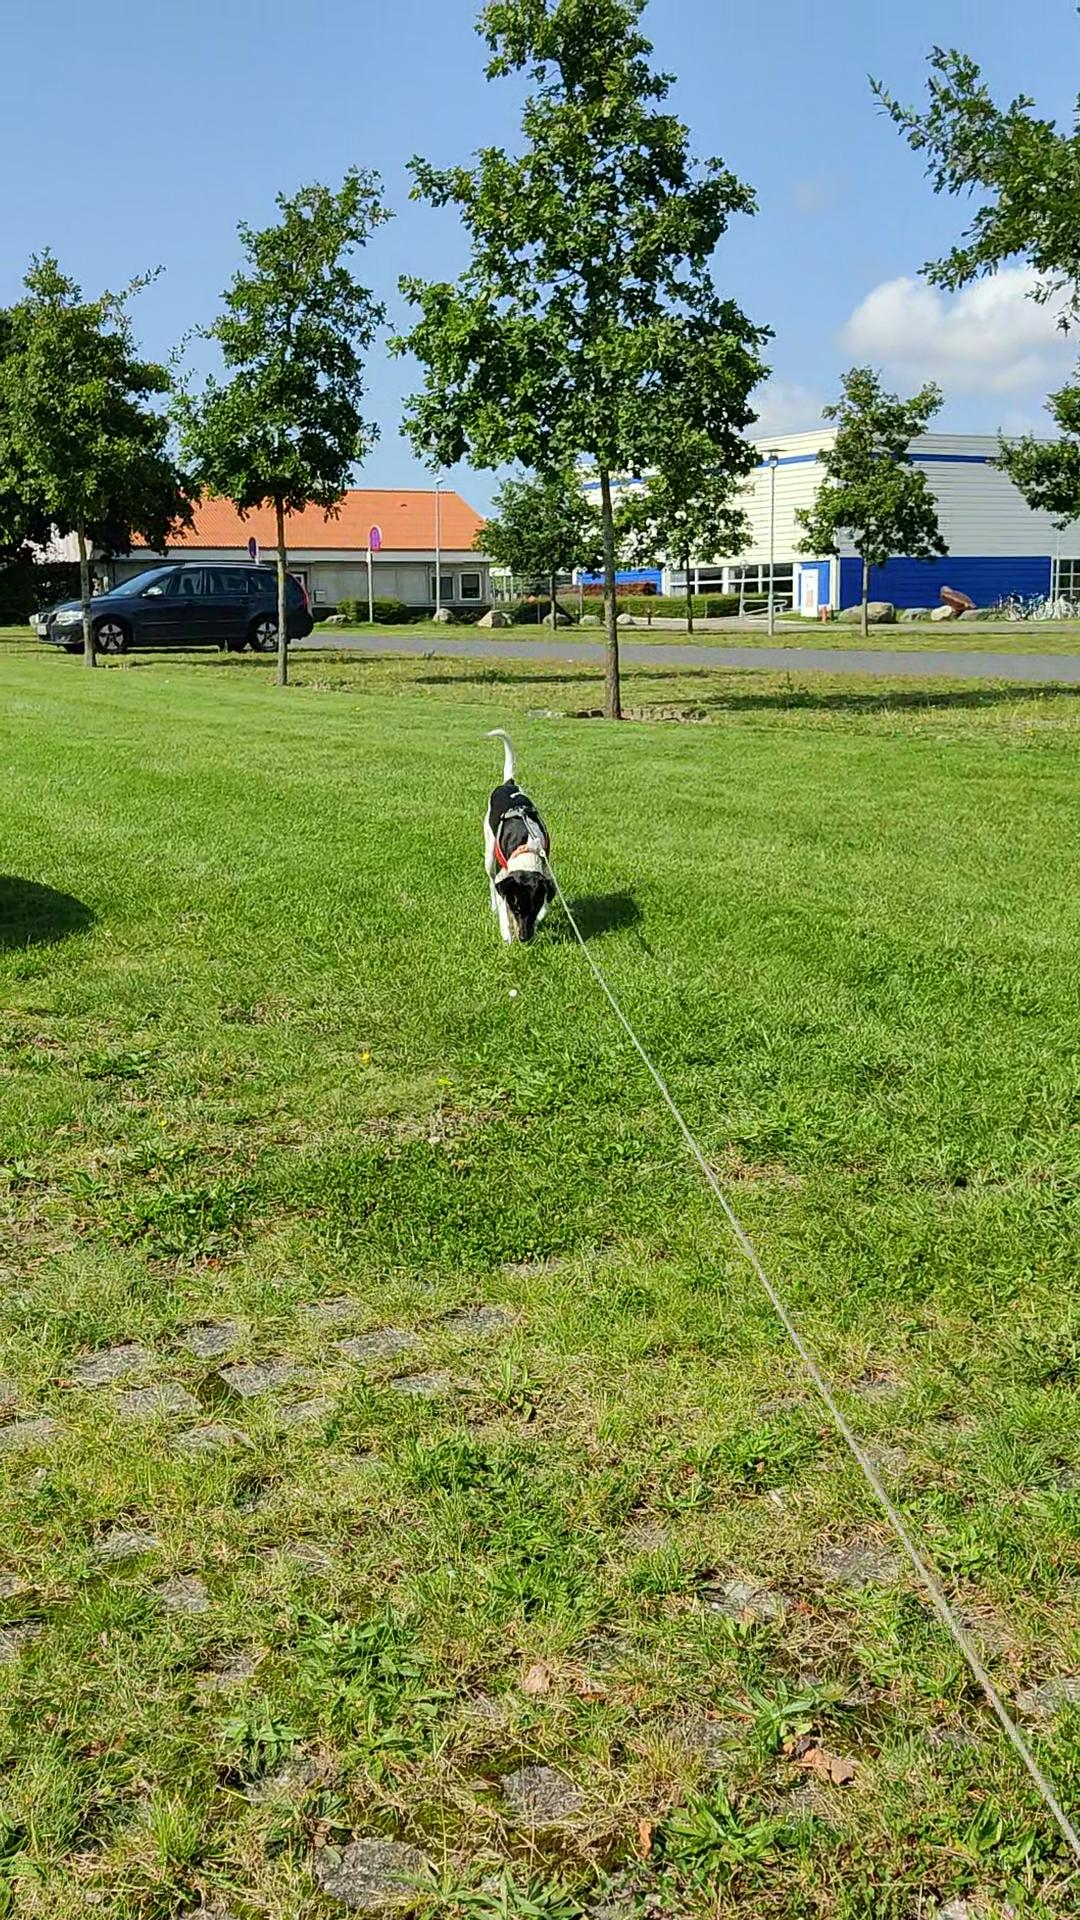Dog: (462, 717, 570, 947)
